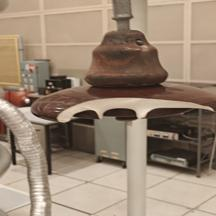insulator: (24, 24, 216, 137)
